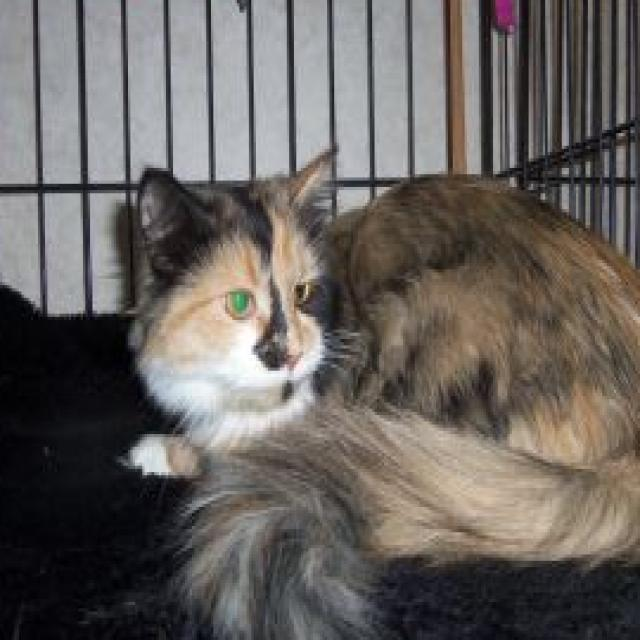Maine Coon: (111, 139, 640, 640)
